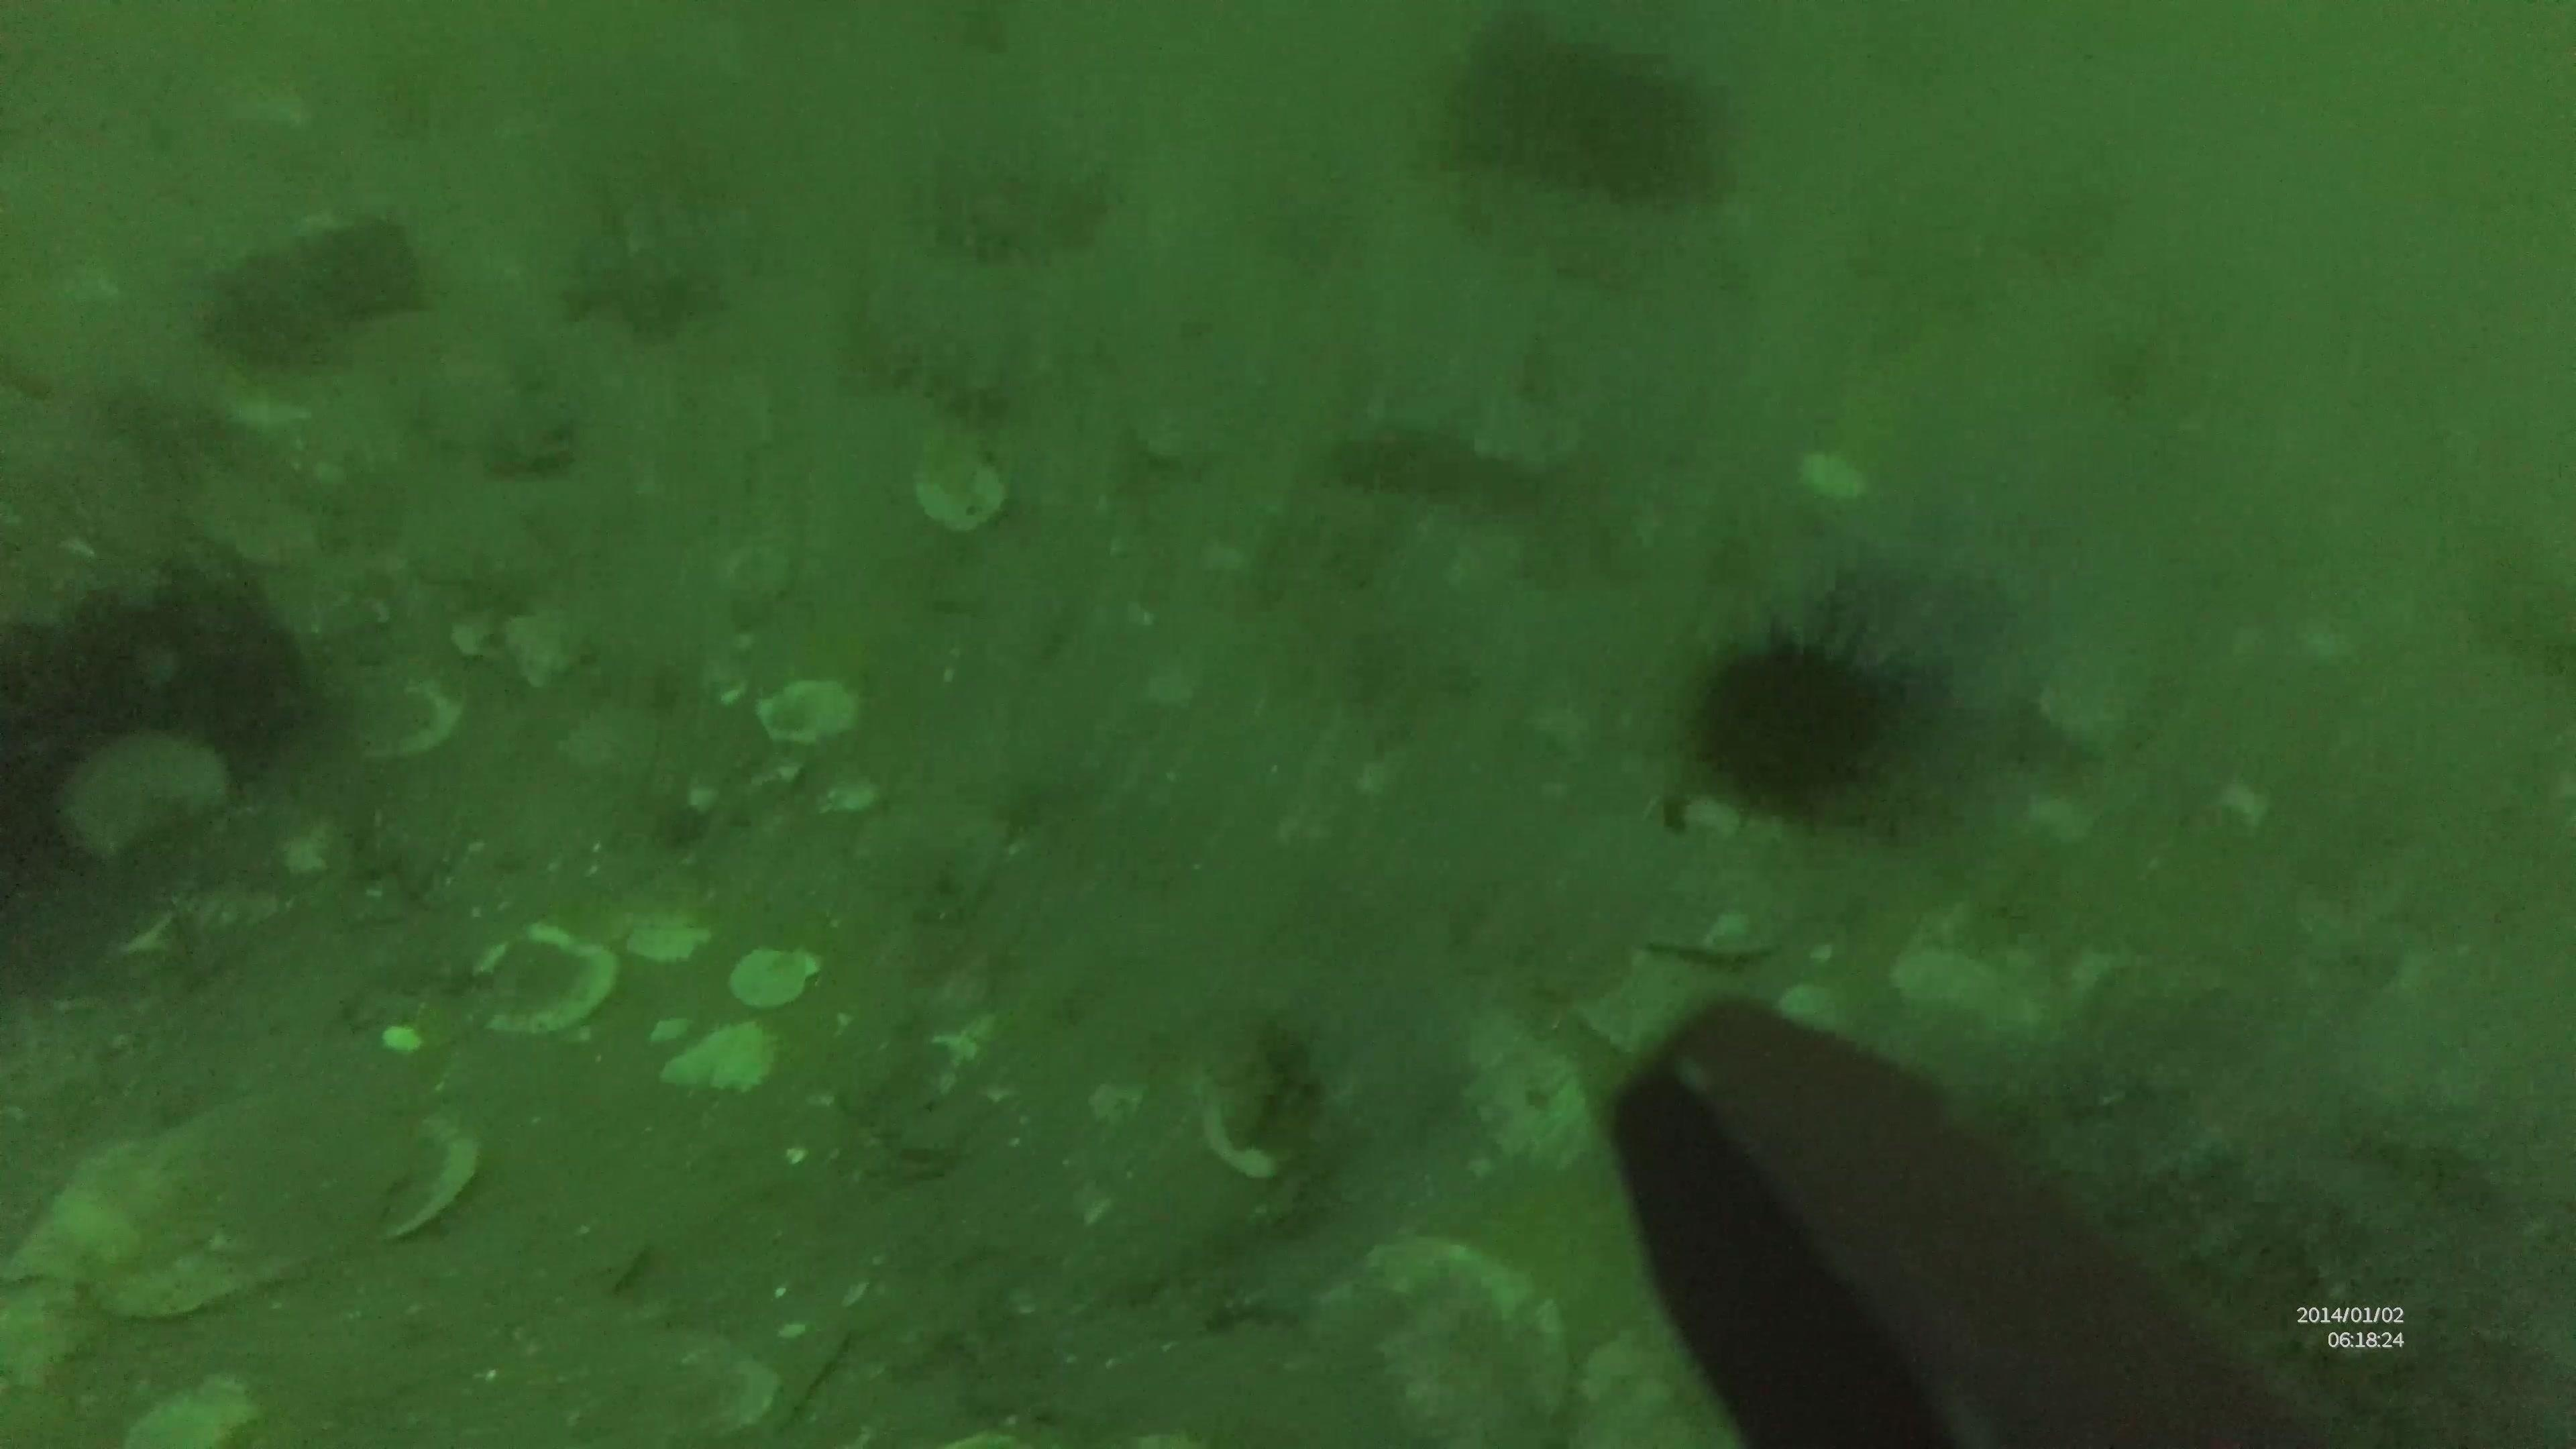echinus: (1677, 610, 1916, 823)
